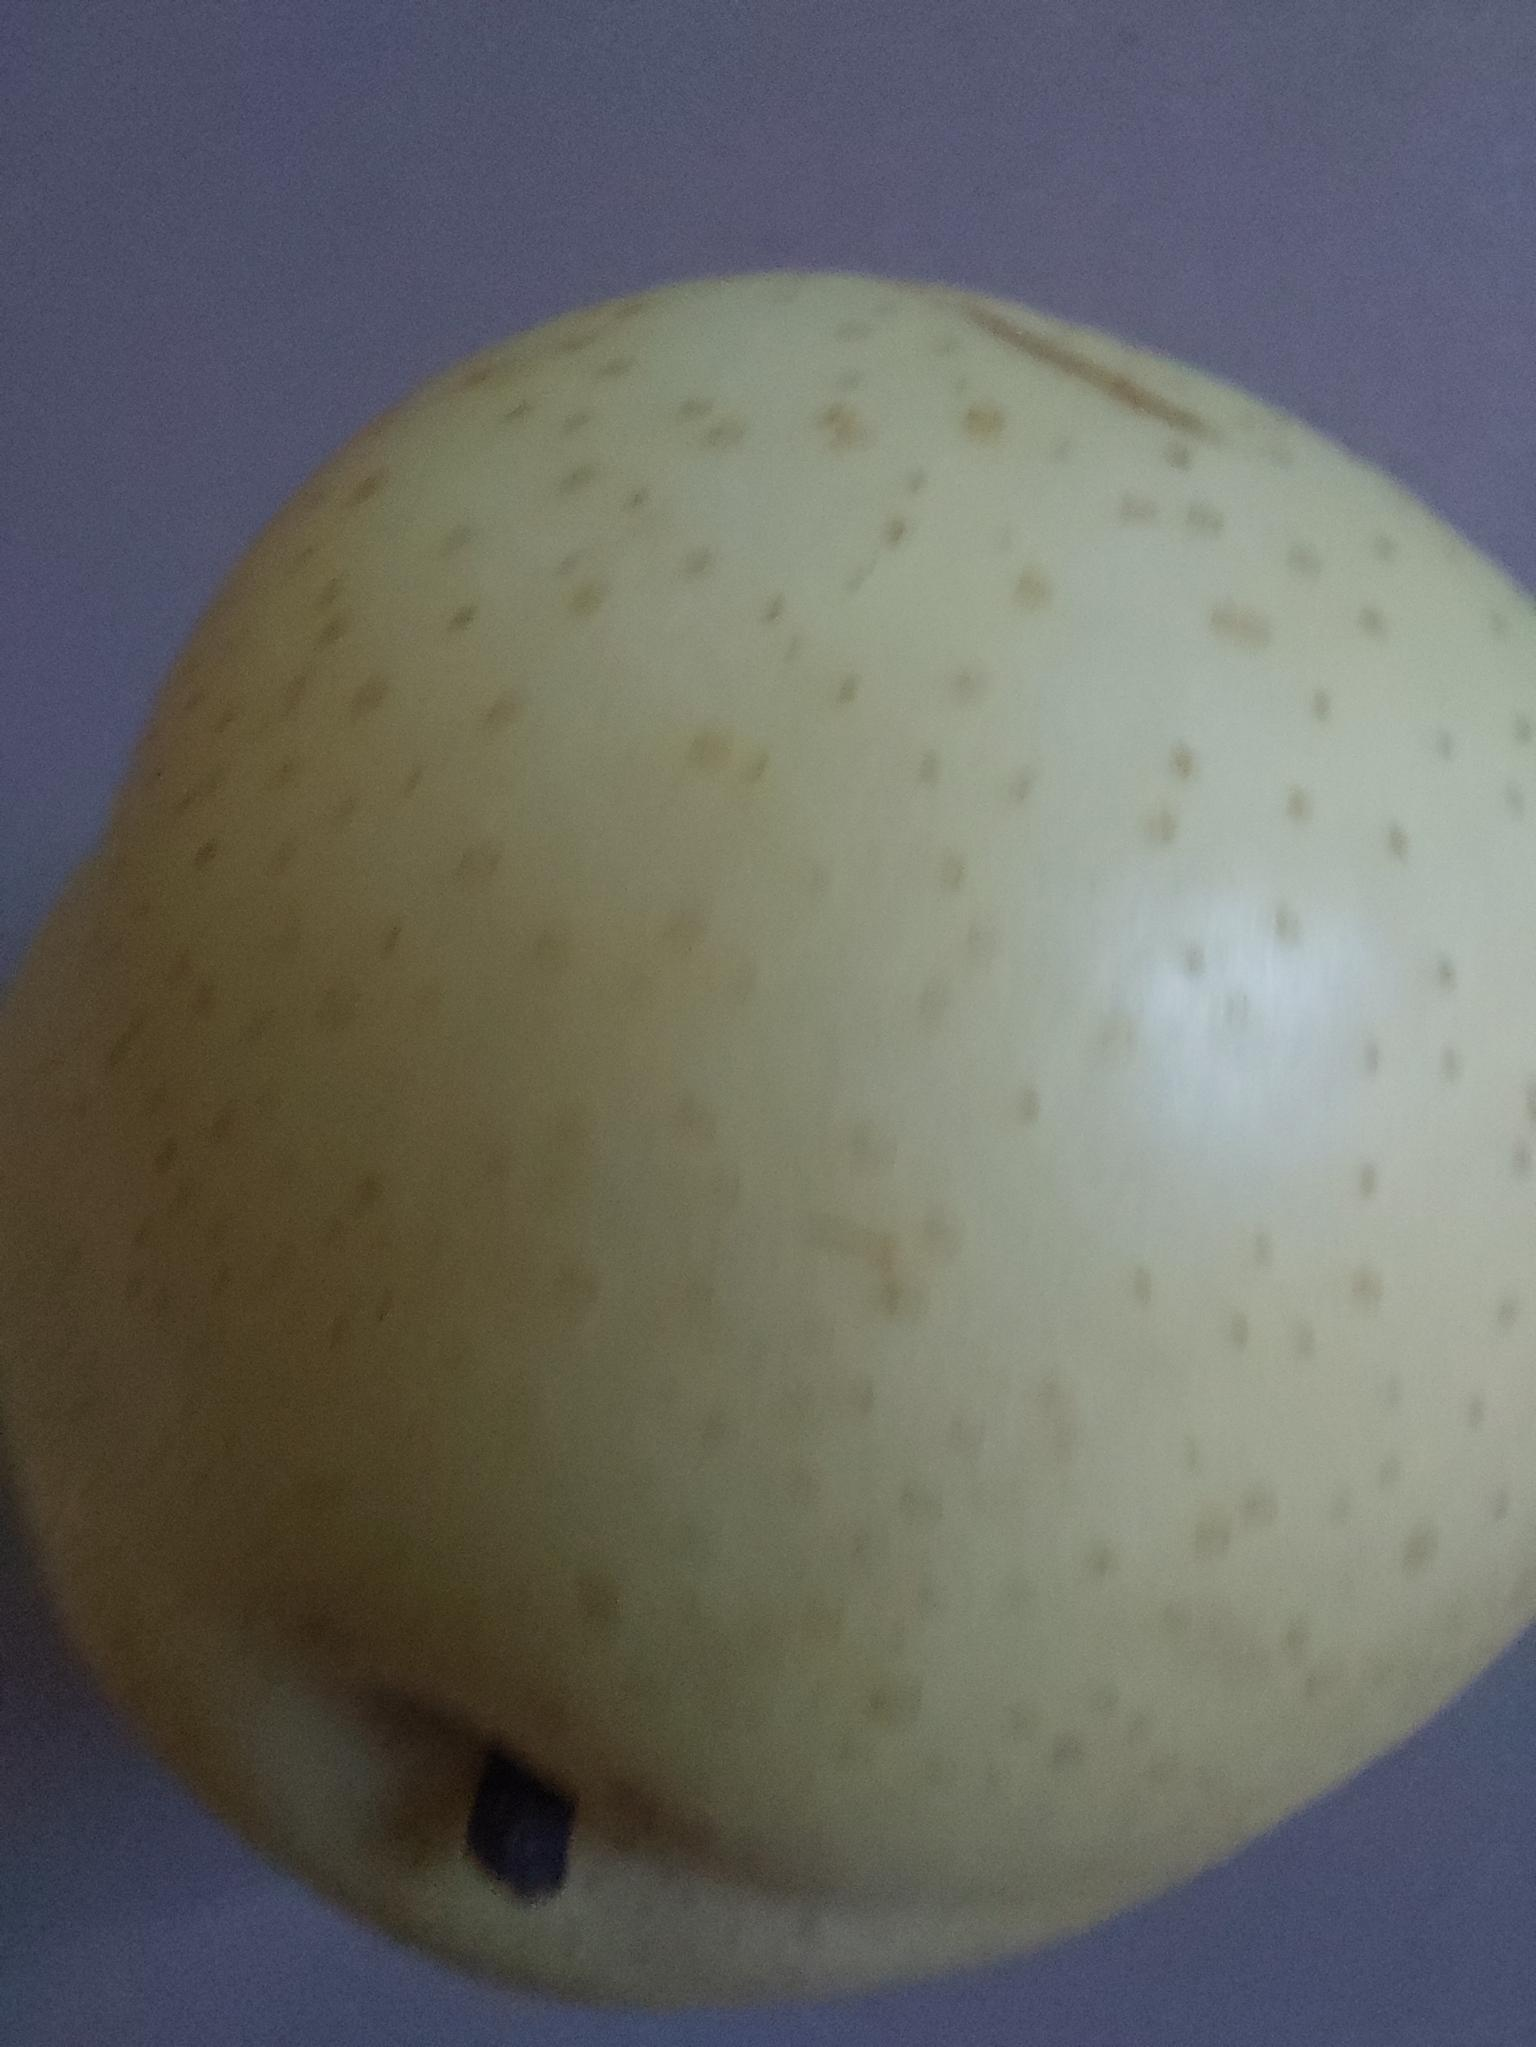Good Pear: (0, 165, 1536, 1986)
